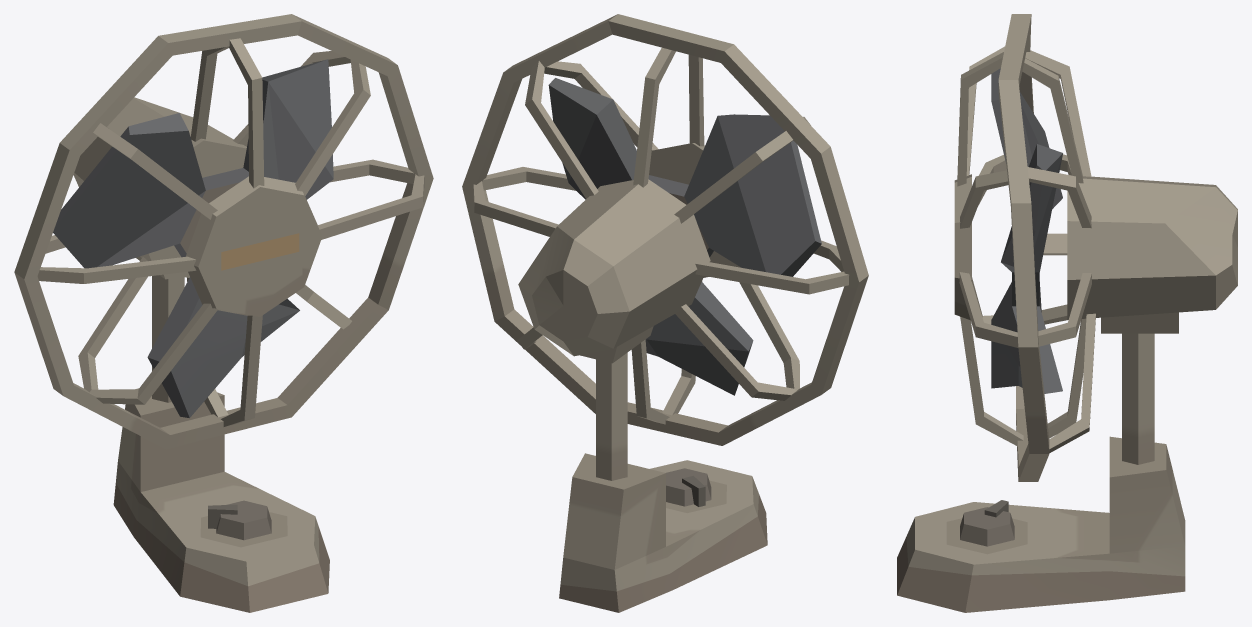
File: SM_Prop_Fan_01.obj
3 renders of one model, left to right at view 1: azimuth 30°, elevation 25°; view 2: azimuth 150°, elevation 25°; view 3: azimuth 270°, elevation 25°, orthographic. The views are drawn at different scales.
Parts seen in each view (by area): view 1: SM_Prop_Fan_01_0; view 2: SM_Prop_Fan_01_0; view 3: SM_Prop_Fan_01_0.
Boxes of the visible parts, x1,y1,x2,y2 form: SM_Prop_Fan_01_0: (14, 14, 433, 612); SM_Prop_Fan_01_0: (462, 14, 868, 612); SM_Prop_Fan_01_0: (897, 14, 1237, 612).
Bounding box in the file's own units: 0.6711 × 0.8336 × 0.4841.
Materials: 1 (1 with a texture image).
